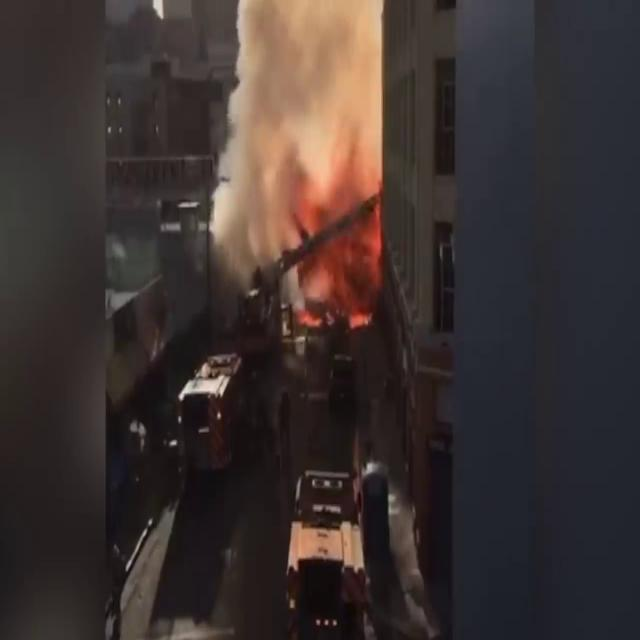Fire: (296, 174, 380, 322)
Smoke: (208, 0, 392, 248)
